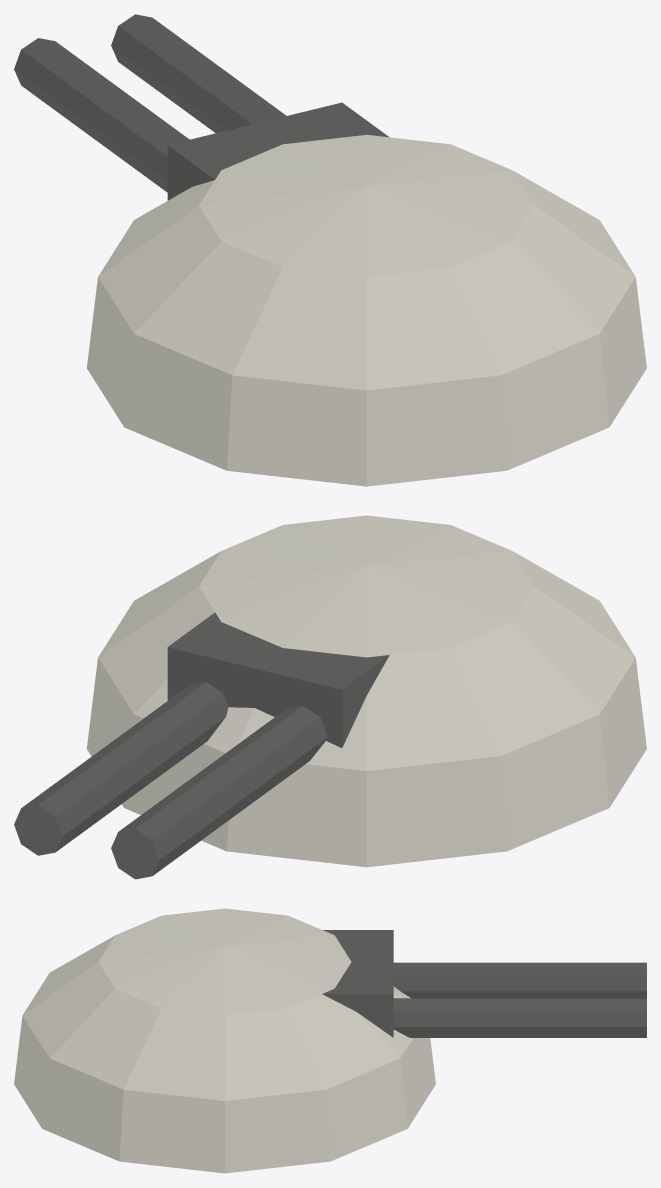
Rendered from Building_Turret_AutoChargeBlaster__Top.glb.
3 renders of one model, top to bottom at view 1: azimuth 30°, elevation 25°; view 2: azimuth 150°, elevation 25°; view 3: azimuth 270°, elevation 25°, orthographic. The views are drawn at different scales.
Parts seen in each view (by area): view 1: Turret_AutoChargeBlaster__Top; view 2: Turret_AutoChargeBlaster__Top; view 3: Turret_AutoChargeBlaster__Top.
Part boxes in pixels (x1,y1,x2,y2): Turret_AutoChargeBlaster__Top: [14, 14, 646, 486]; Turret_AutoChargeBlaster__Top: [14, 515, 646, 879]; Turret_AutoChargeBlaster__Top: [14, 908, 646, 1173].
Size of the model in its own units: 1 by 0.36 by 1.5.
1 material, 1 textured.
